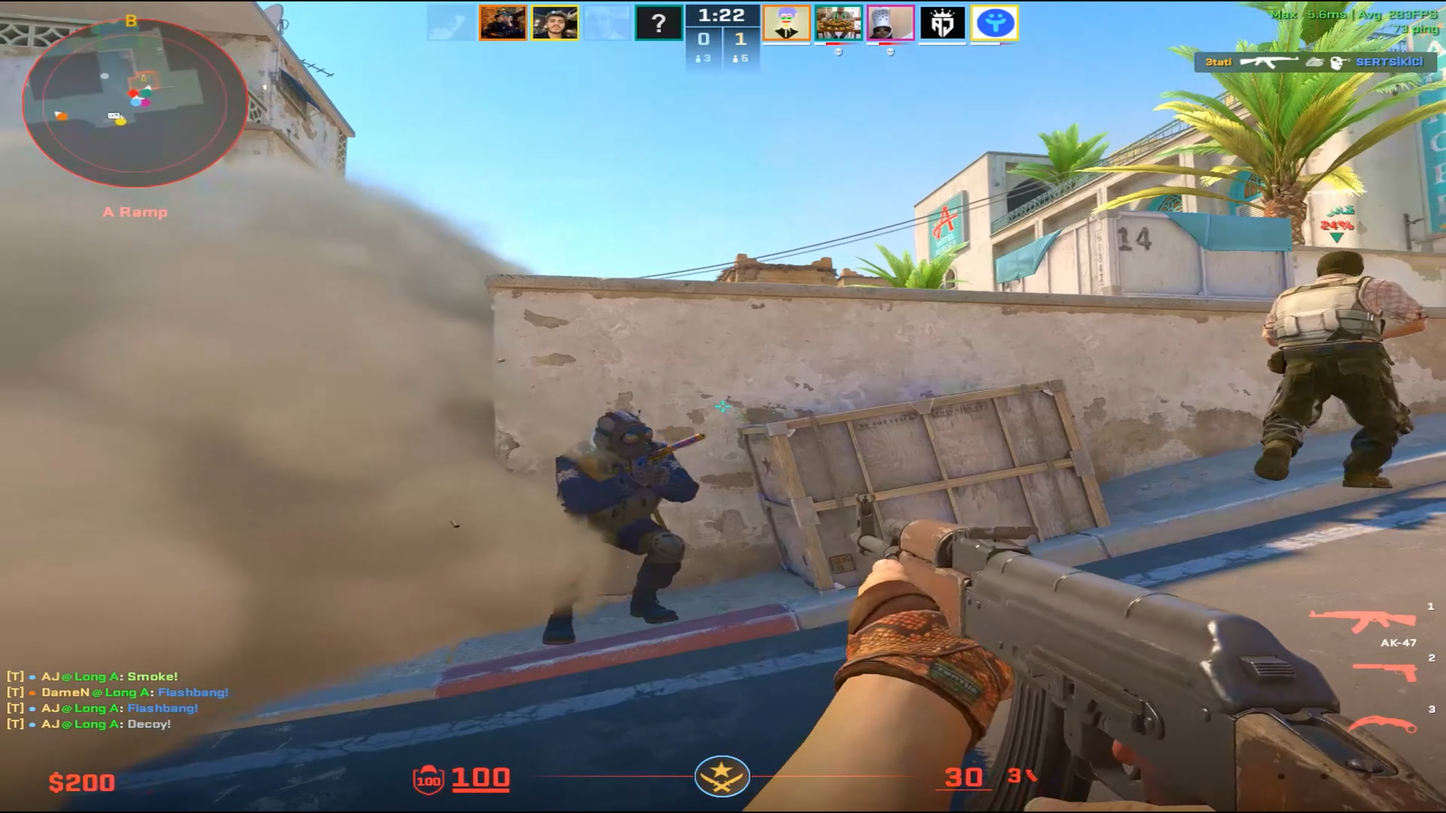CT: (539, 408, 699, 641)
